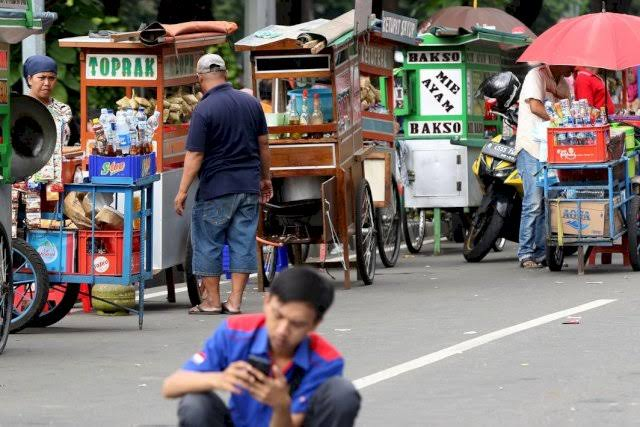gerobak: (236, 10, 394, 288), (60, 21, 236, 269), (361, 25, 529, 251), (0, 0, 56, 353), (518, 1, 639, 70), (546, 86, 639, 168), (545, 172, 572, 235), (606, 171, 630, 213)
